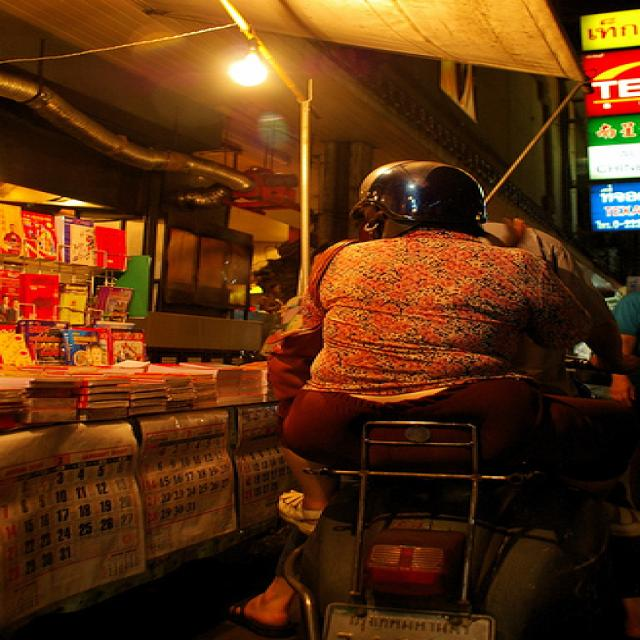motor: (289, 416, 585, 633)
